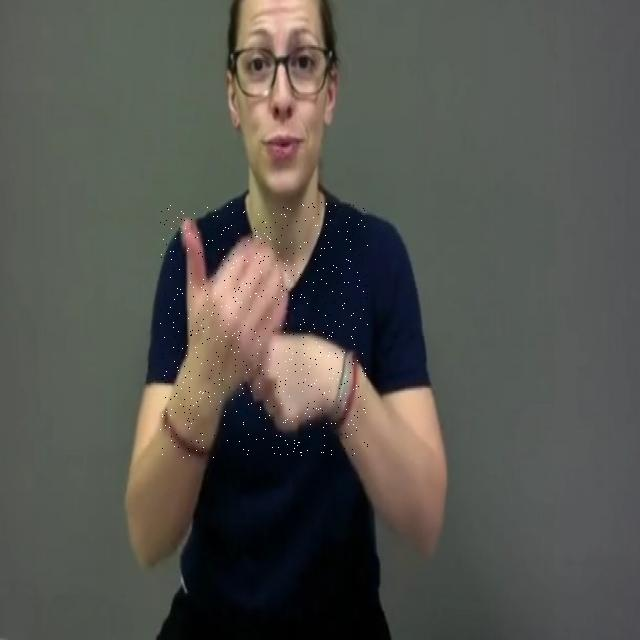bread: (160, 202, 368, 458)
